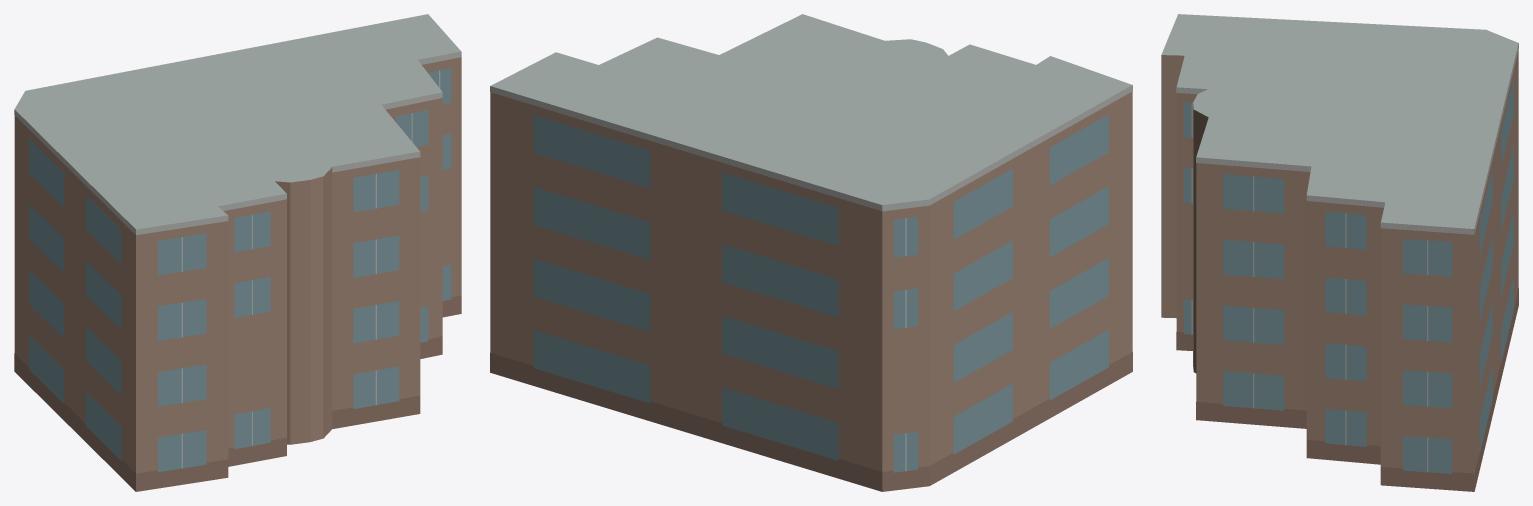
File: survey-upis-32820871.glb
3 views of the same model, side by side, from view 1: azimuth 30°, elevation 25°; view 2: azimuth 150°, elevation 25°; view 3: azimuth 270°, elevation 25° (orthographic). The views are drawn at different scales.
Parts seen in each view (by area): view 1: survey-upis-32820871.tmp; view 2: survey-upis-32820871.tmp; view 3: survey-upis-32820871.tmp.
Boxes of the visible parts, left/top/right/bottom form: survey-upis-32820871.tmp: left=14, top=14, right=461, bottom=491; survey-upis-32820871.tmp: left=490, top=14, right=1132, bottom=491; survey-upis-32820871.tmp: left=1161, top=14, right=1518, bottom=491.
Bounding box in the file's own units: 19.85 × 11.3 × 13.94.
